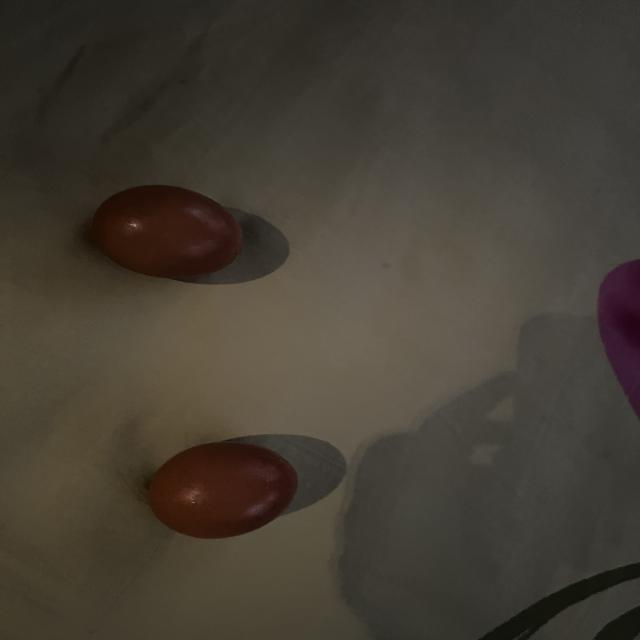Egg: (131, 429, 310, 542), (76, 180, 253, 285)
